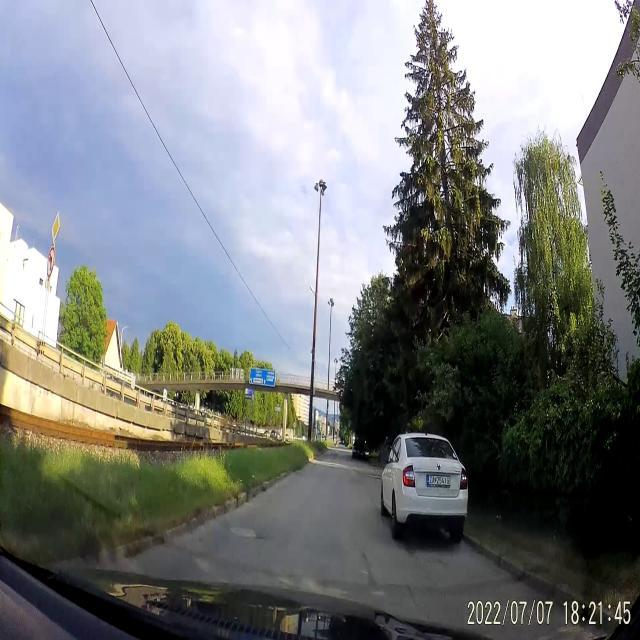Pothole: (227, 516, 268, 544)
